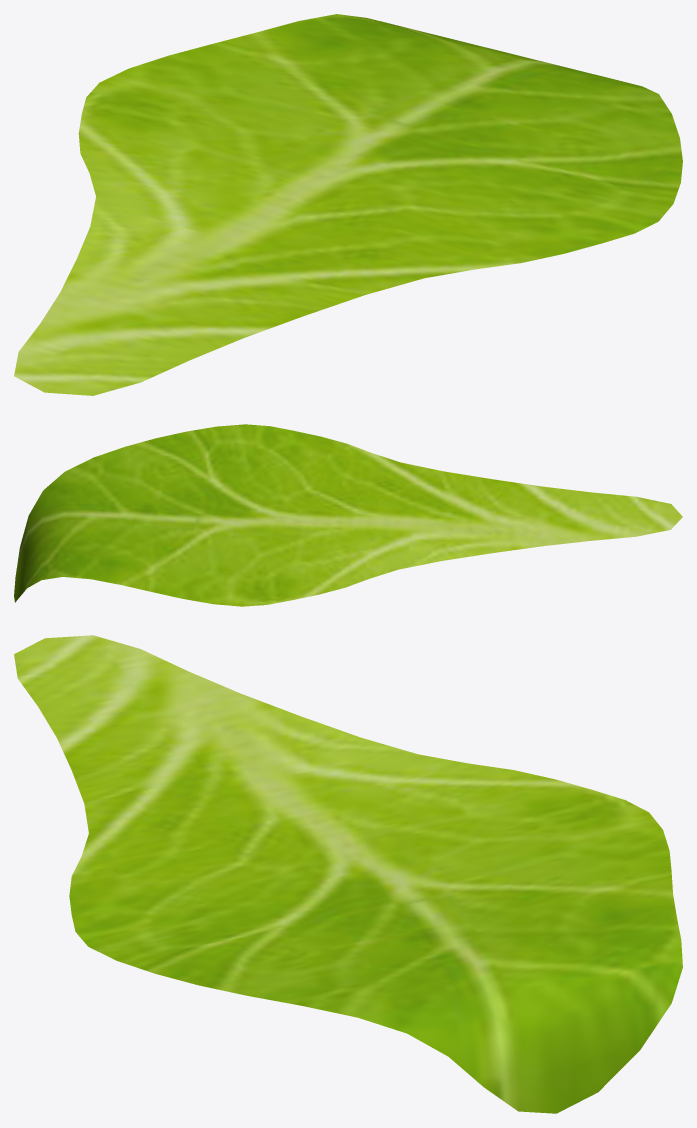
The model's file is lettuceslice.fbx.
3 renders of one model, top to bottom at view 1: azimuth 30°, elevation 25°; view 2: azimuth 150°, elevation 25°; view 3: azimuth 270°, elevation 25°, orthographic. The views are drawn at different scales.
Parts seen in each view (by area): view 1: Plane.001; view 2: Plane.001; view 3: Plane.001.
Boxes of the visible parts, <box> form: Plane.001: <box>14,14,682,395</box>; Plane.001: <box>14,424,682,606</box>; Plane.001: <box>14,635,682,1113</box>.
Size of the model in its own units: 82.2 by 11.3 by 60.88.
